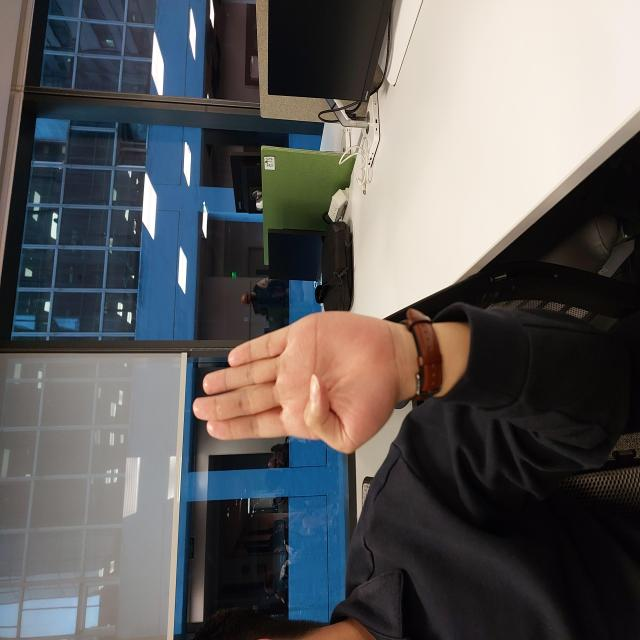B: (187, 191, 330, 394)
